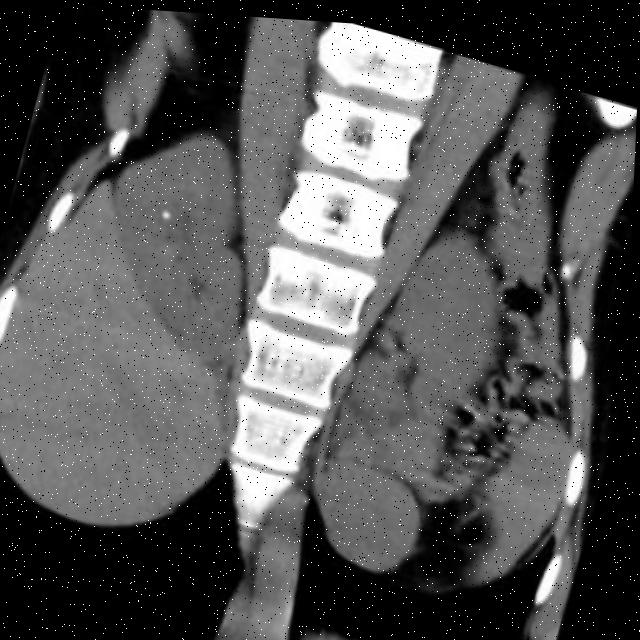Tas_Var: (163, 203, 177, 220)
